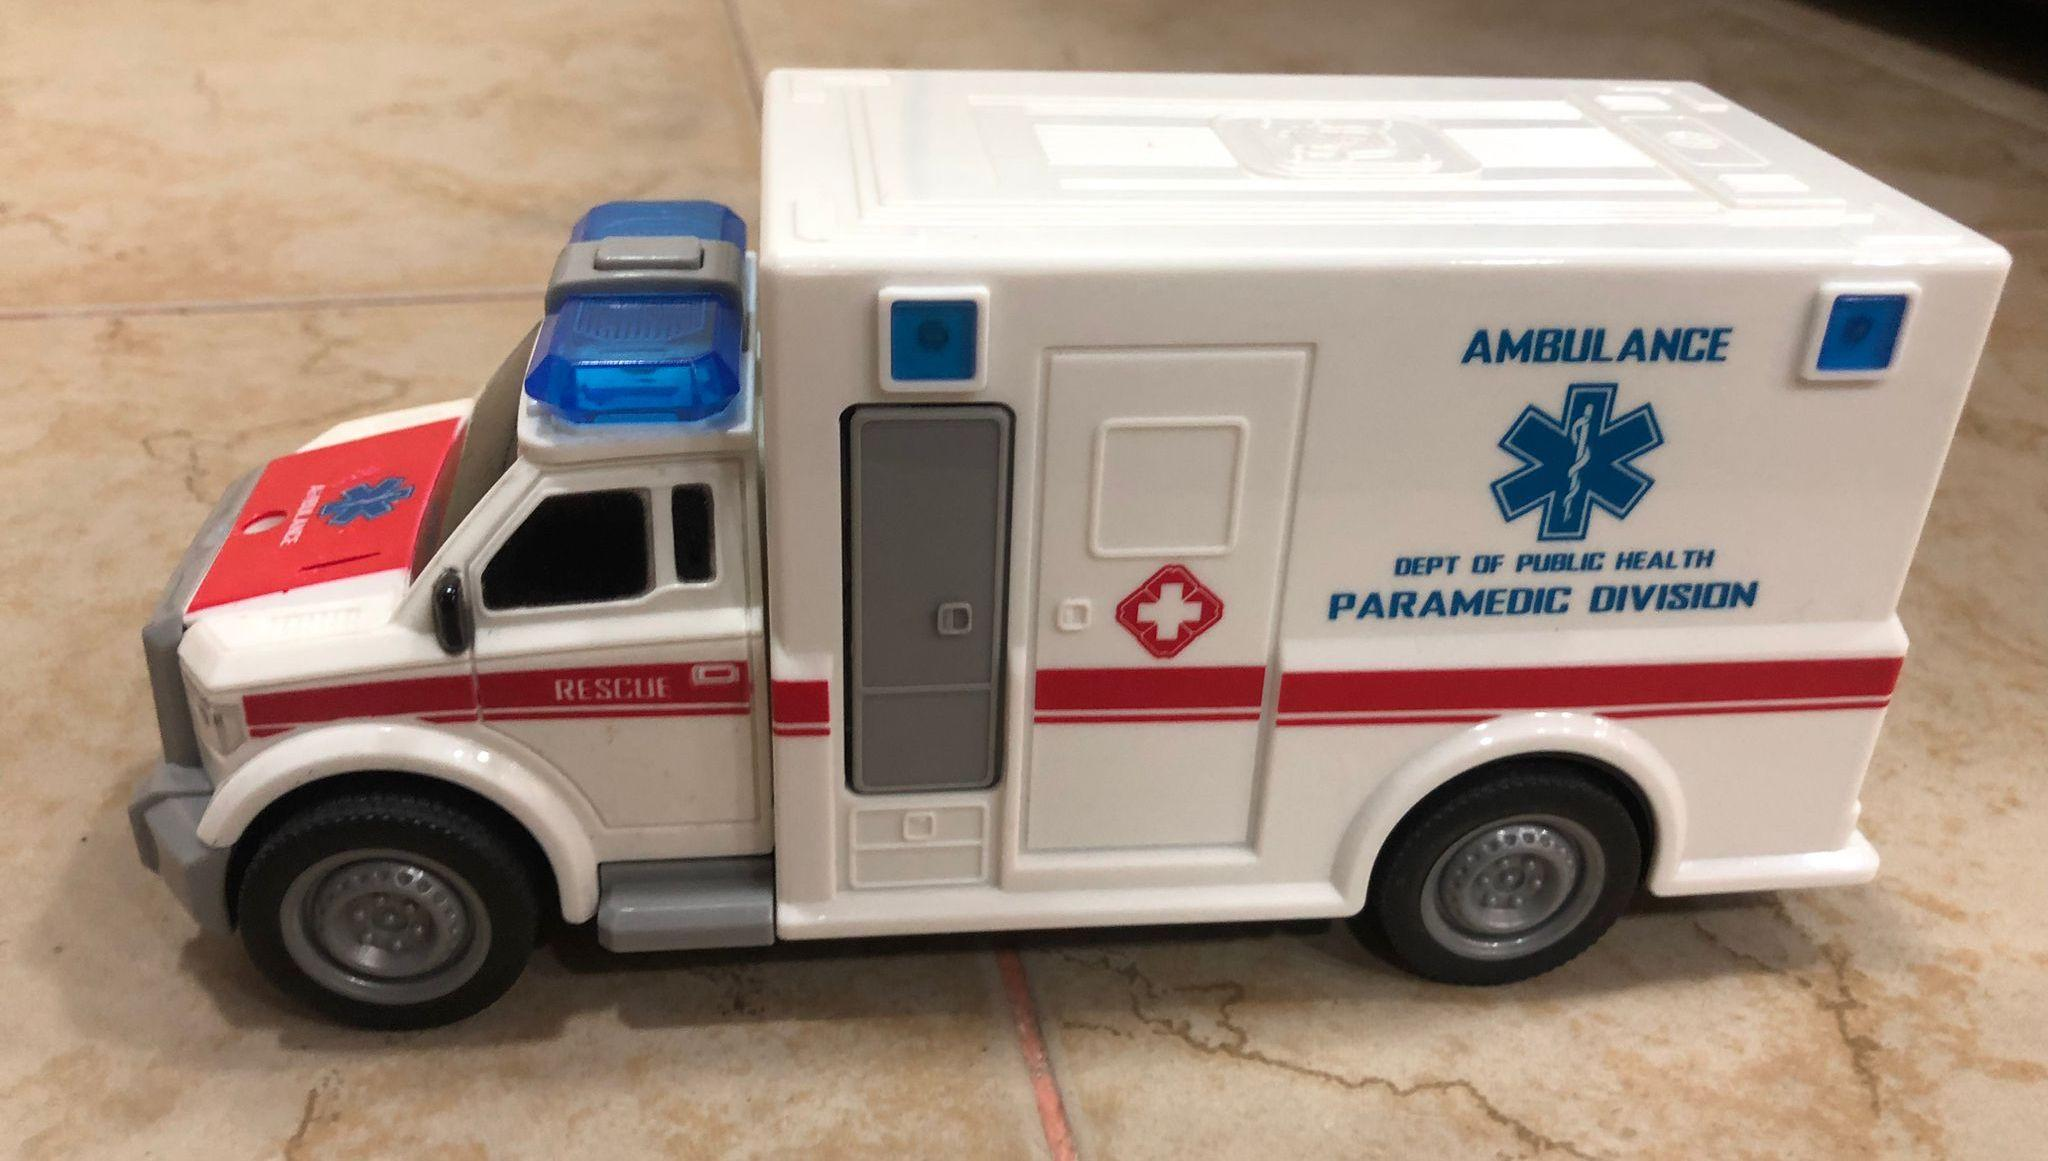ambulance_off: (124, 65, 2016, 1032)
